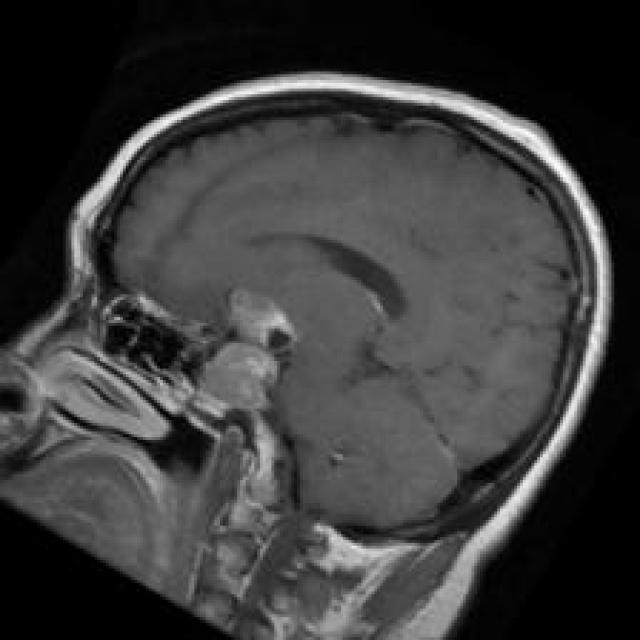pituitary_tumor: (188, 275, 306, 435)
